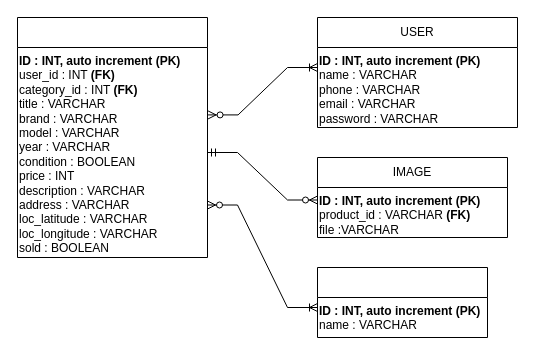
Some shapes in this 535 by 355 pixel diagram are drawn without their labels. Here are the shapes that lost their labels. From the top down, the box of each, then its label:
(16, 16, 208, 258): PRODUCT
(316, 266, 488, 338): CATEGORY
